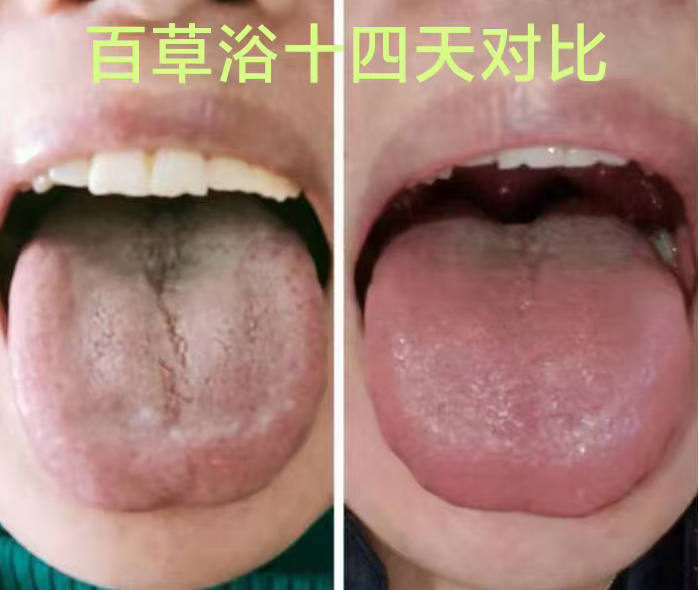baitaishe: (8, 207, 330, 512)
hongshe: (362, 211, 693, 518)
liewenshe: (132, 238, 196, 423)
